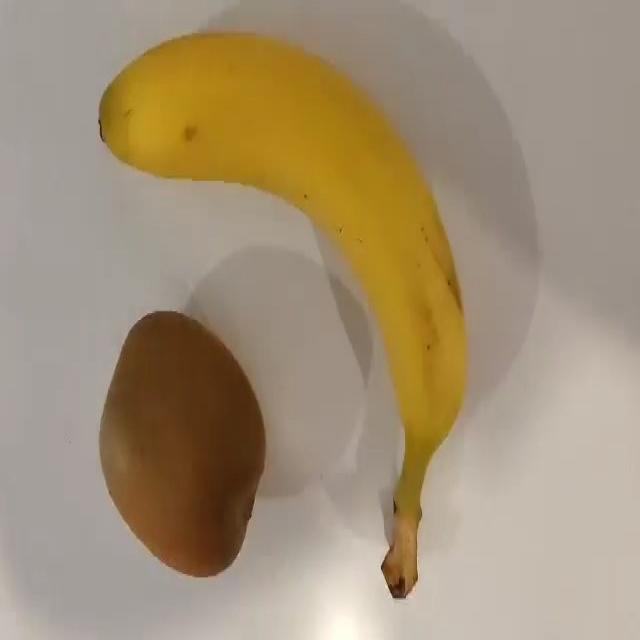Banana: (97, 31, 468, 599)
